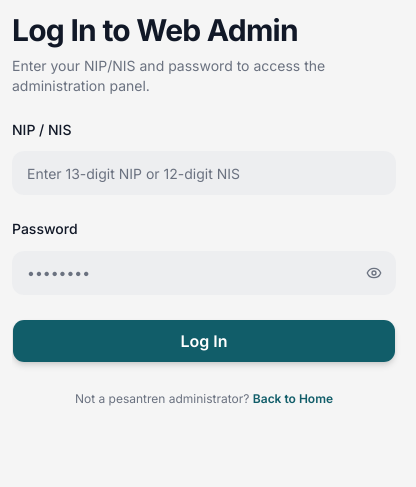
it: LoginForm Component › should show validation errors when submitting empty fields
Click the button "Log In". click: {"x": 204, "y": 340}
box: x1=12 y1=318 x2=396 y2=362
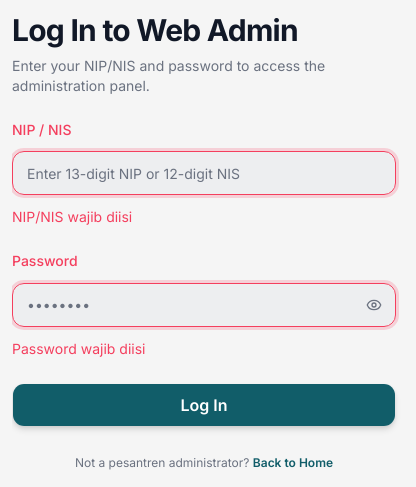
Expected: the text "NIP/NIS wajib diisi" is shown, x1=12 y1=208 x2=132 y2=225
Expected: the text "Password wajib diisi" is shown, x1=12 y1=340 x2=146 y2=356
